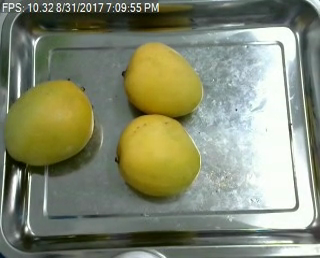Mango: (4, 80, 93, 165), (115, 115, 198, 197), (123, 42, 203, 115)
